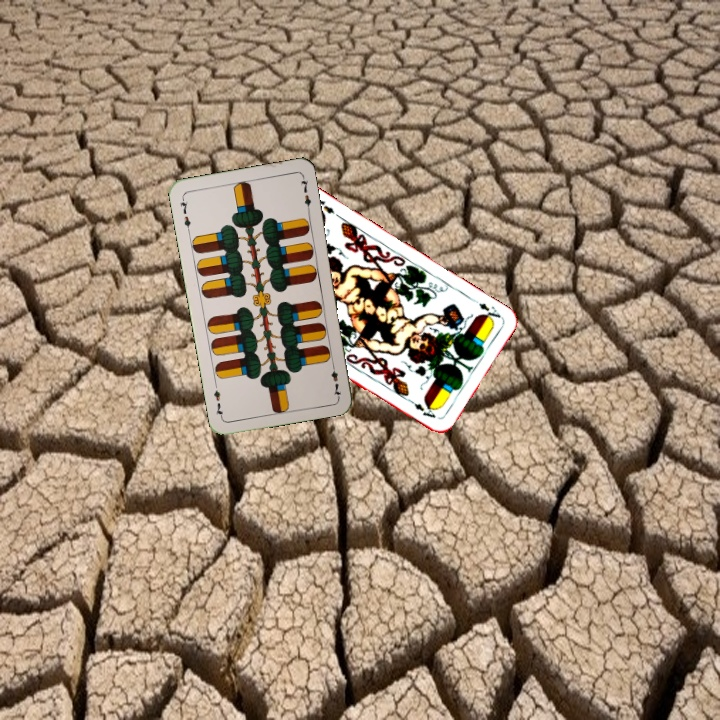E7: (176, 194, 193, 234), (327, 359, 344, 399)
EA: (467, 294, 503, 324)
